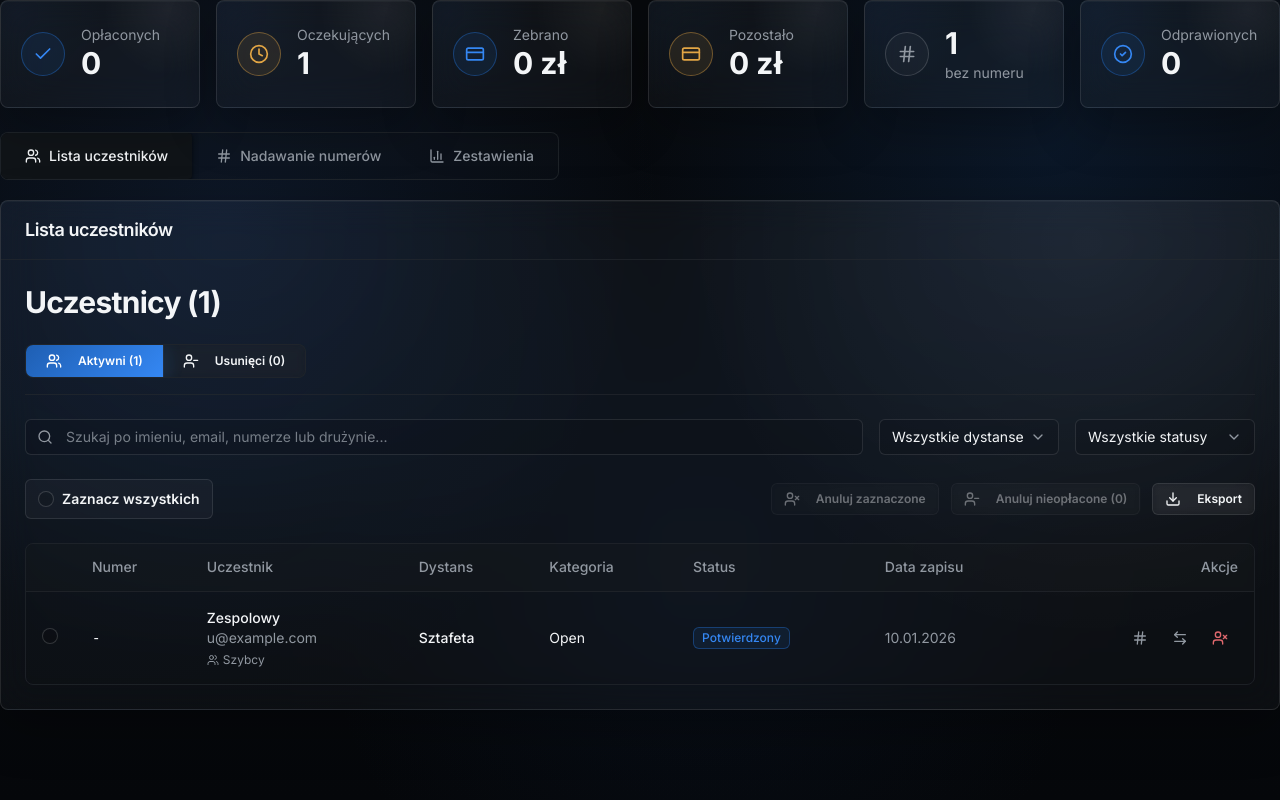
Test: ParticipantsTab relay member swap › swaps through the API and shows the new person in the list
Click the button named "Wymień zawodnika Zespolowy". click: (1180, 638)
box: [1162,620,1198,656]
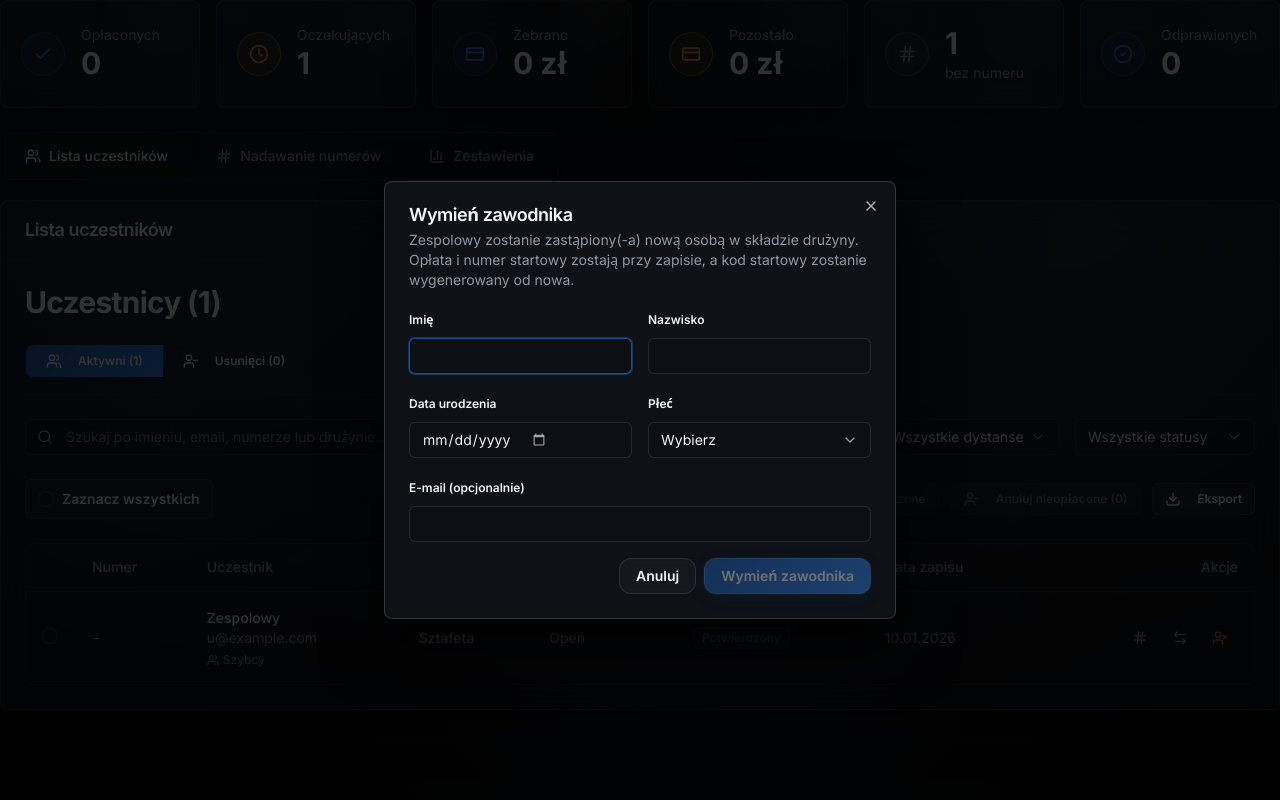
Type "Ola" into the field labelled "Imię". click: (520, 356)
box: [409,338,632,374]
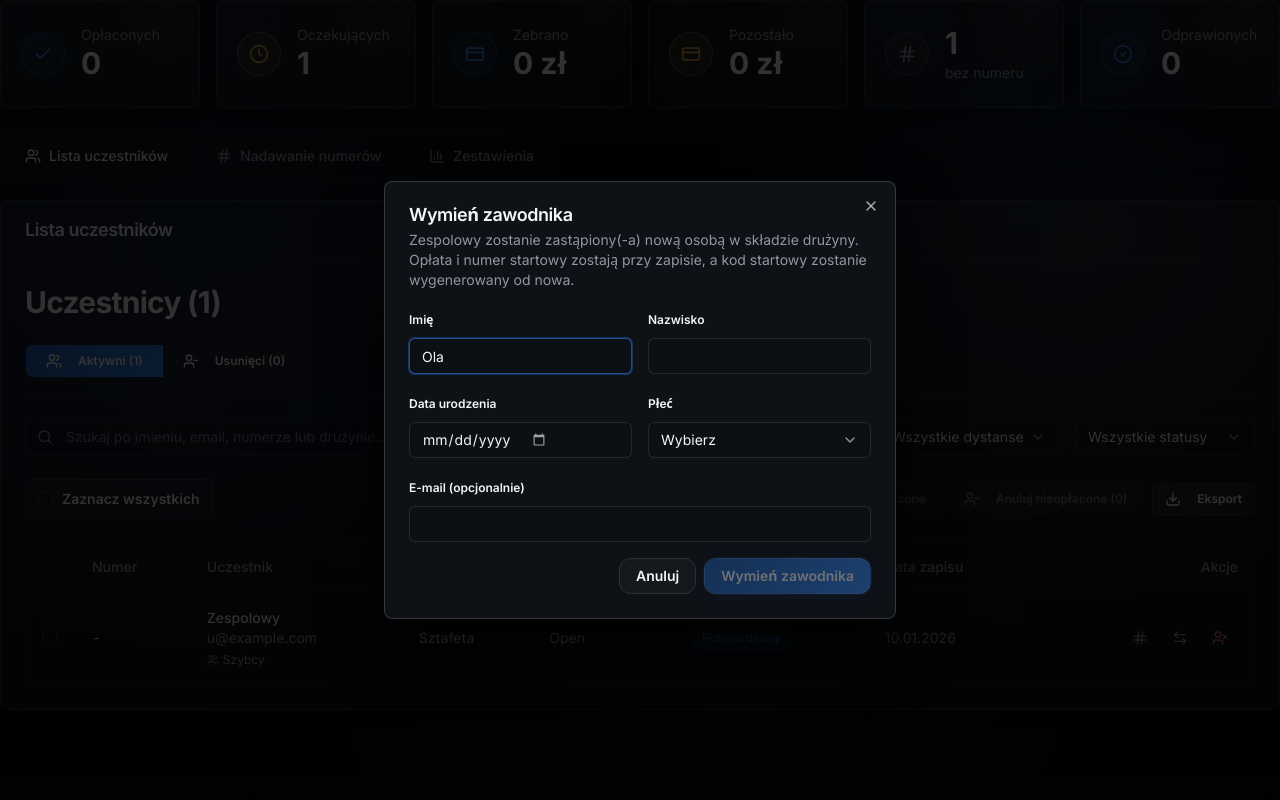
Type "Nowak" into the field labelled "Nazwisko". click: (760, 356)
box: [648,338,871,374]
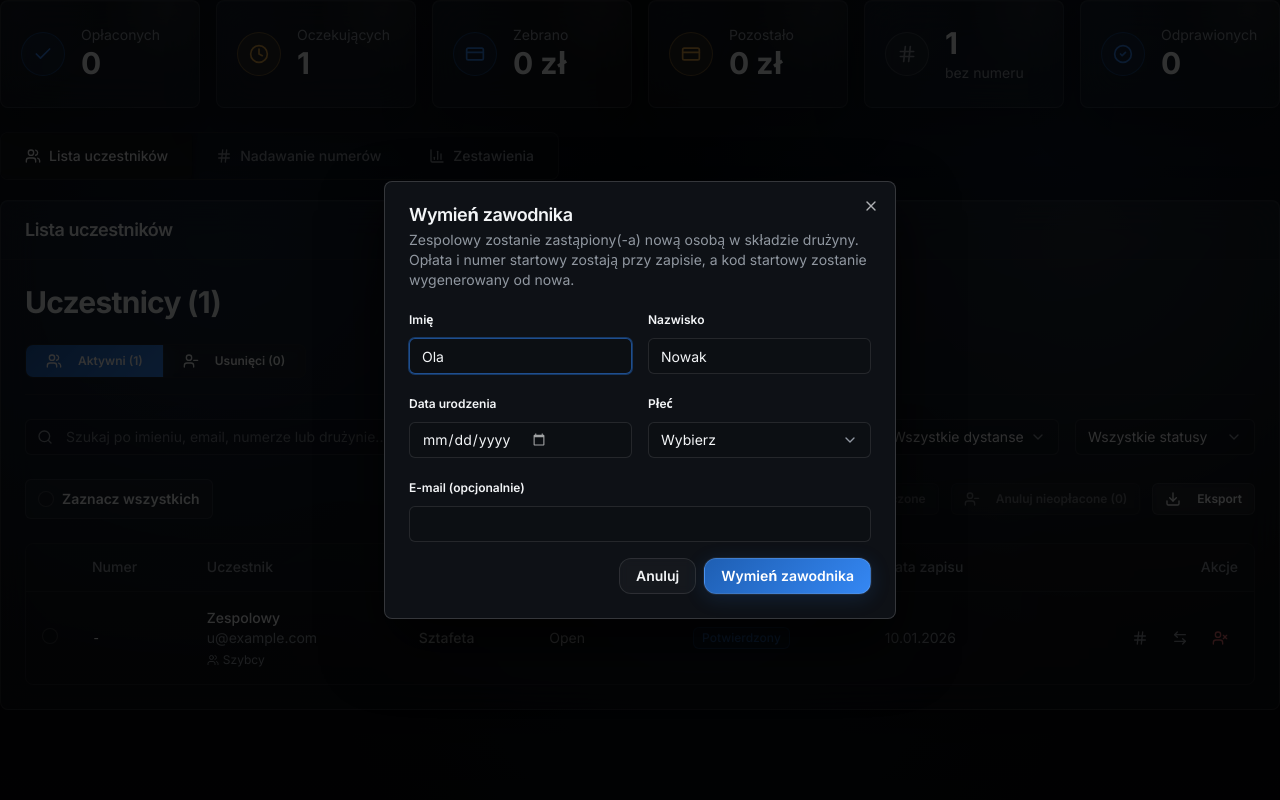
Click the button "Wymień zawodnika". click: (788, 576)
box: [704,558,871,594]
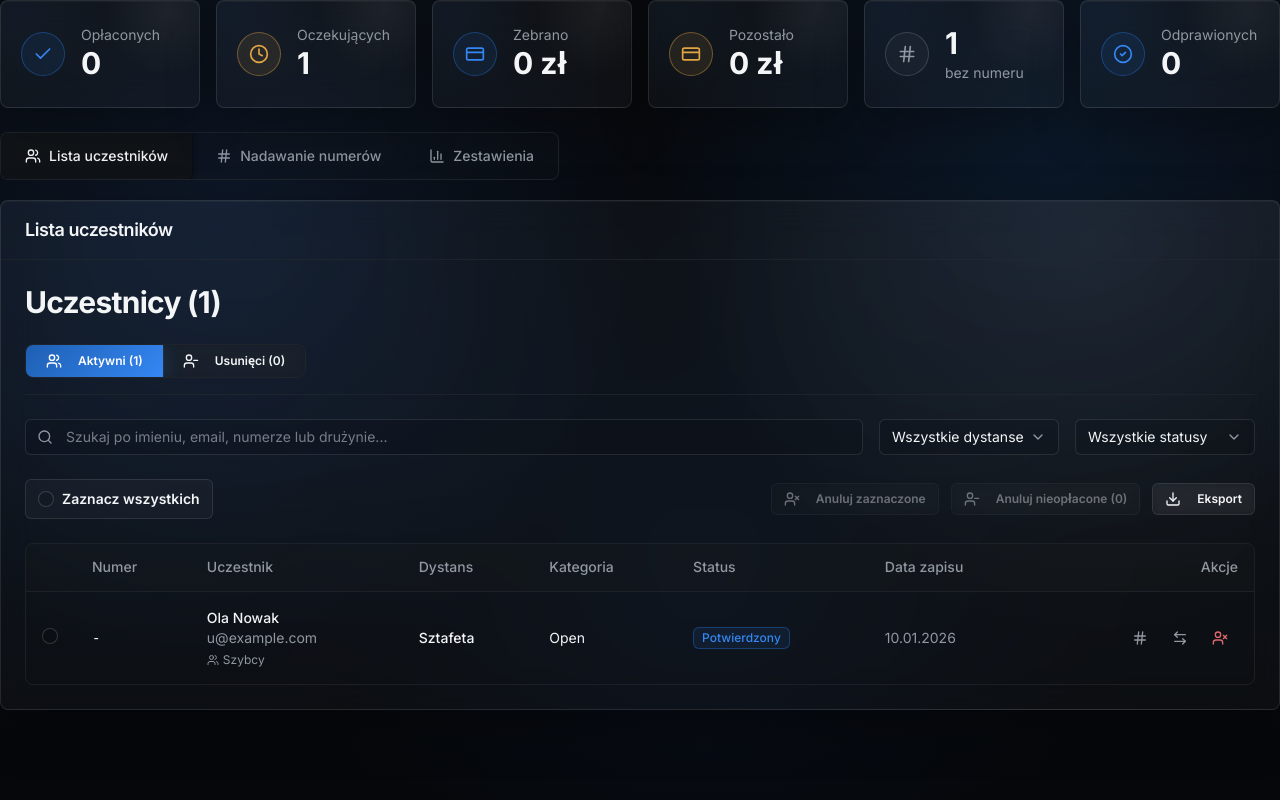
Now the link "Ola Nowak" is shown, box [207,609,279,626]
Now the link "Zespolowy" is gone
